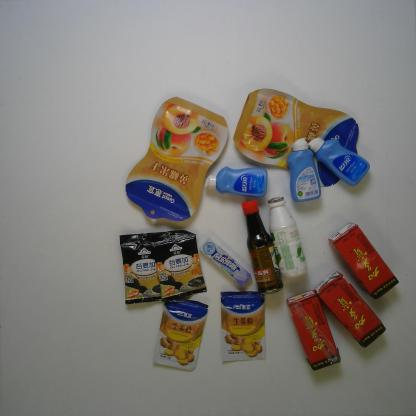Candy: (198, 236, 253, 289)
Dried Fruit: (123, 94, 231, 224), (231, 86, 361, 190)
Drink: (313, 268, 387, 350), (327, 220, 401, 301), (285, 288, 342, 372)
Instant Drink: (146, 229, 208, 303), (118, 231, 166, 305)
Milk: (266, 194, 309, 281)
Personal Hygiene: (307, 136, 371, 188), (285, 135, 322, 203), (203, 164, 269, 200)
Seasoner: (151, 296, 209, 372), (240, 198, 284, 296), (218, 289, 269, 364)
